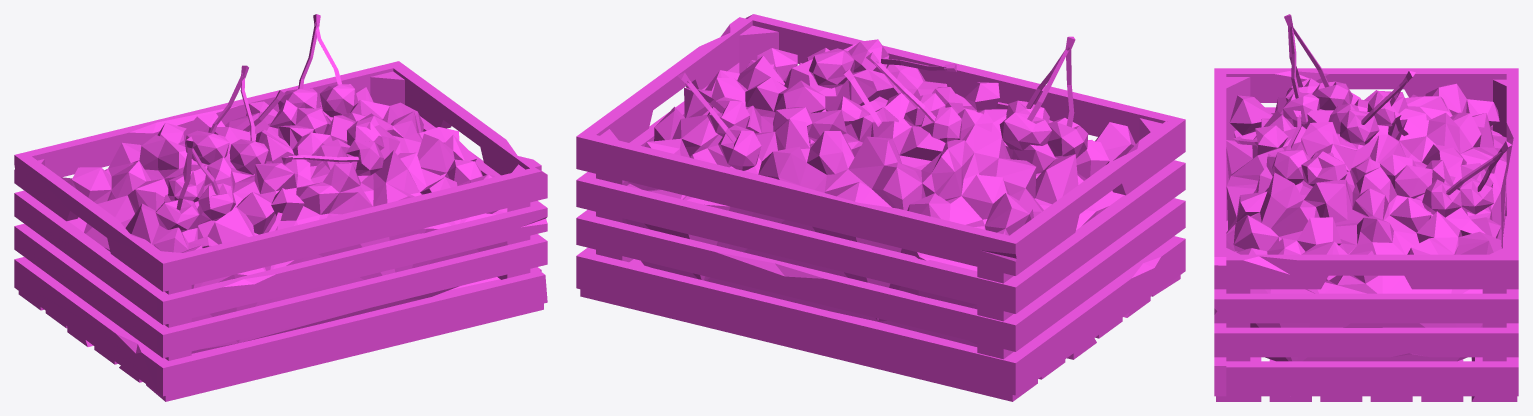
Rendered from SM_Crate_Wood_Medium_Cherries.fbx.
The picture shows the model from 3 angles, left to right: view 1: azimuth 30°, elevation 25°; view 2: azimuth 150°, elevation 25°; view 3: azimuth 270°, elevation 25°; orthographic projection. The views are drawn at different scales.
Visible parts, largest first — view 1: SM_Crate_Wood_Medium_Cherries; view 2: SM_Crate_Wood_Medium_Cherries; view 3: SM_Crate_Wood_Medium_Cherries.
Part boxes in pixels (x1,y1,x2,y2): SM_Crate_Wood_Medium_Cherries: (14,14,547,401); SM_Crate_Wood_Medium_Cherries: (576,14,1185,401); SM_Crate_Wood_Medium_Cherries: (1214,14,1518,401).
Size of the model in its own units: 0.6067 by 0.3387 by 0.4063.
